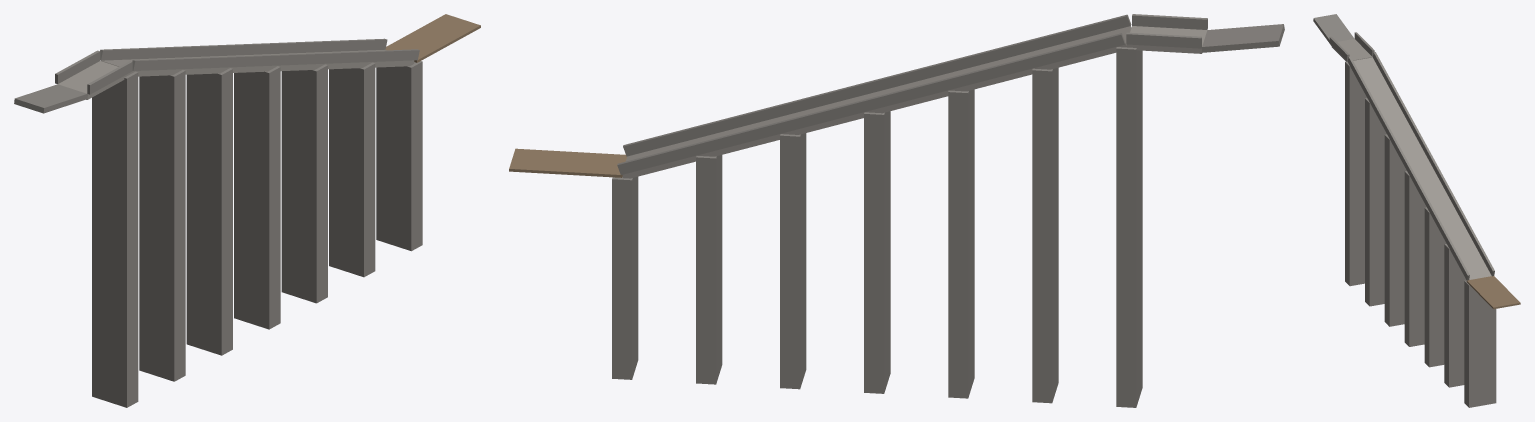
Rendered from ash_landing_obsidian_arch_col.glb.
The picture shows the model from 3 angles, left to right: view 1: azimuth 30°, elevation 25°; view 2: azimuth 150°, elevation 25°; view 3: azimuth 270°, elevation 25°; orthographic projection. The views are drawn at different scales.
Parts seen in each view (by area): view 1: geometry_0; view 2: geometry_0; view 3: geometry_0.
Part boxes in pixels (box(x1,y1,x2,y2)): geometry_0: box(14, 14, 480, 407); geometry_0: box(509, 14, 1284, 407); geometry_0: box(1313, 14, 1520, 407).
Bounding box in the file's own units: 58.01 × 32.53 × 26.71.
